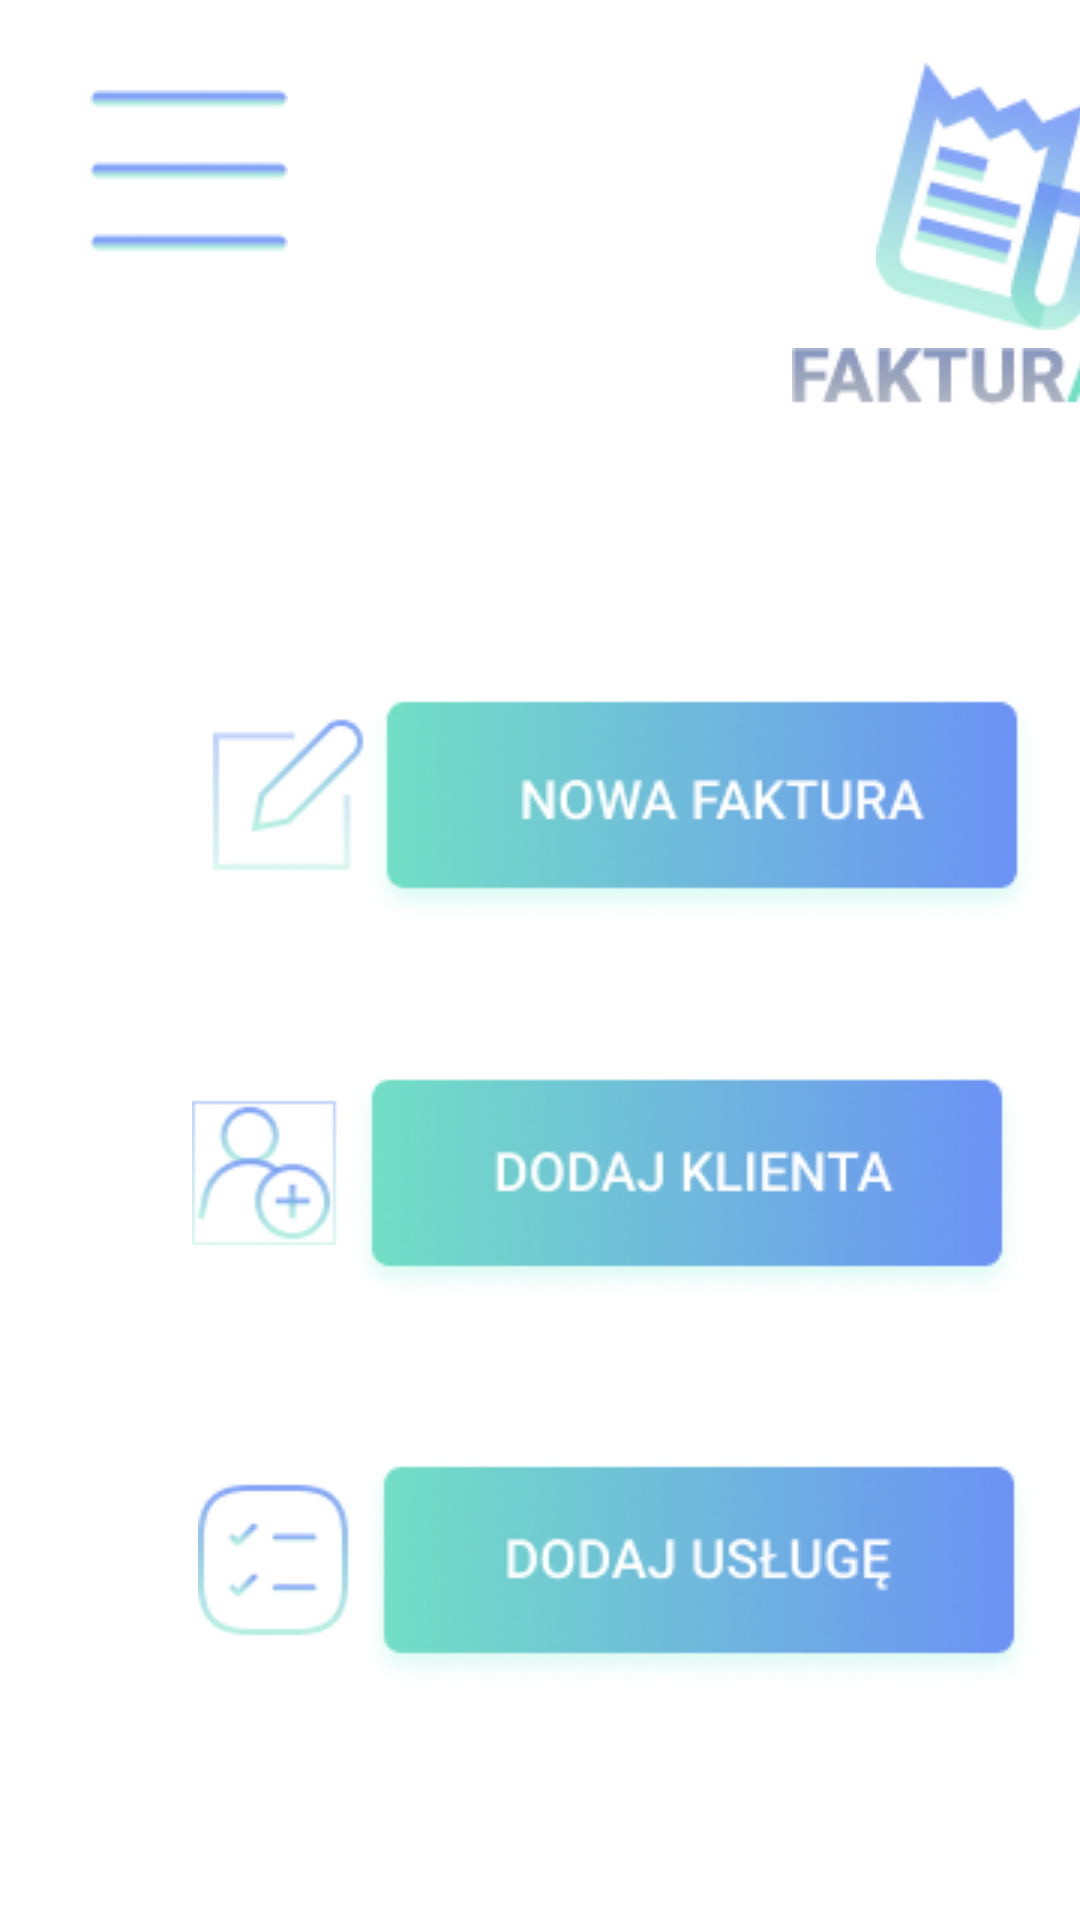

Icons on this 1080px x 1920px Android screen, each with the point to tap as [x,y]:
menu: [189,171]
